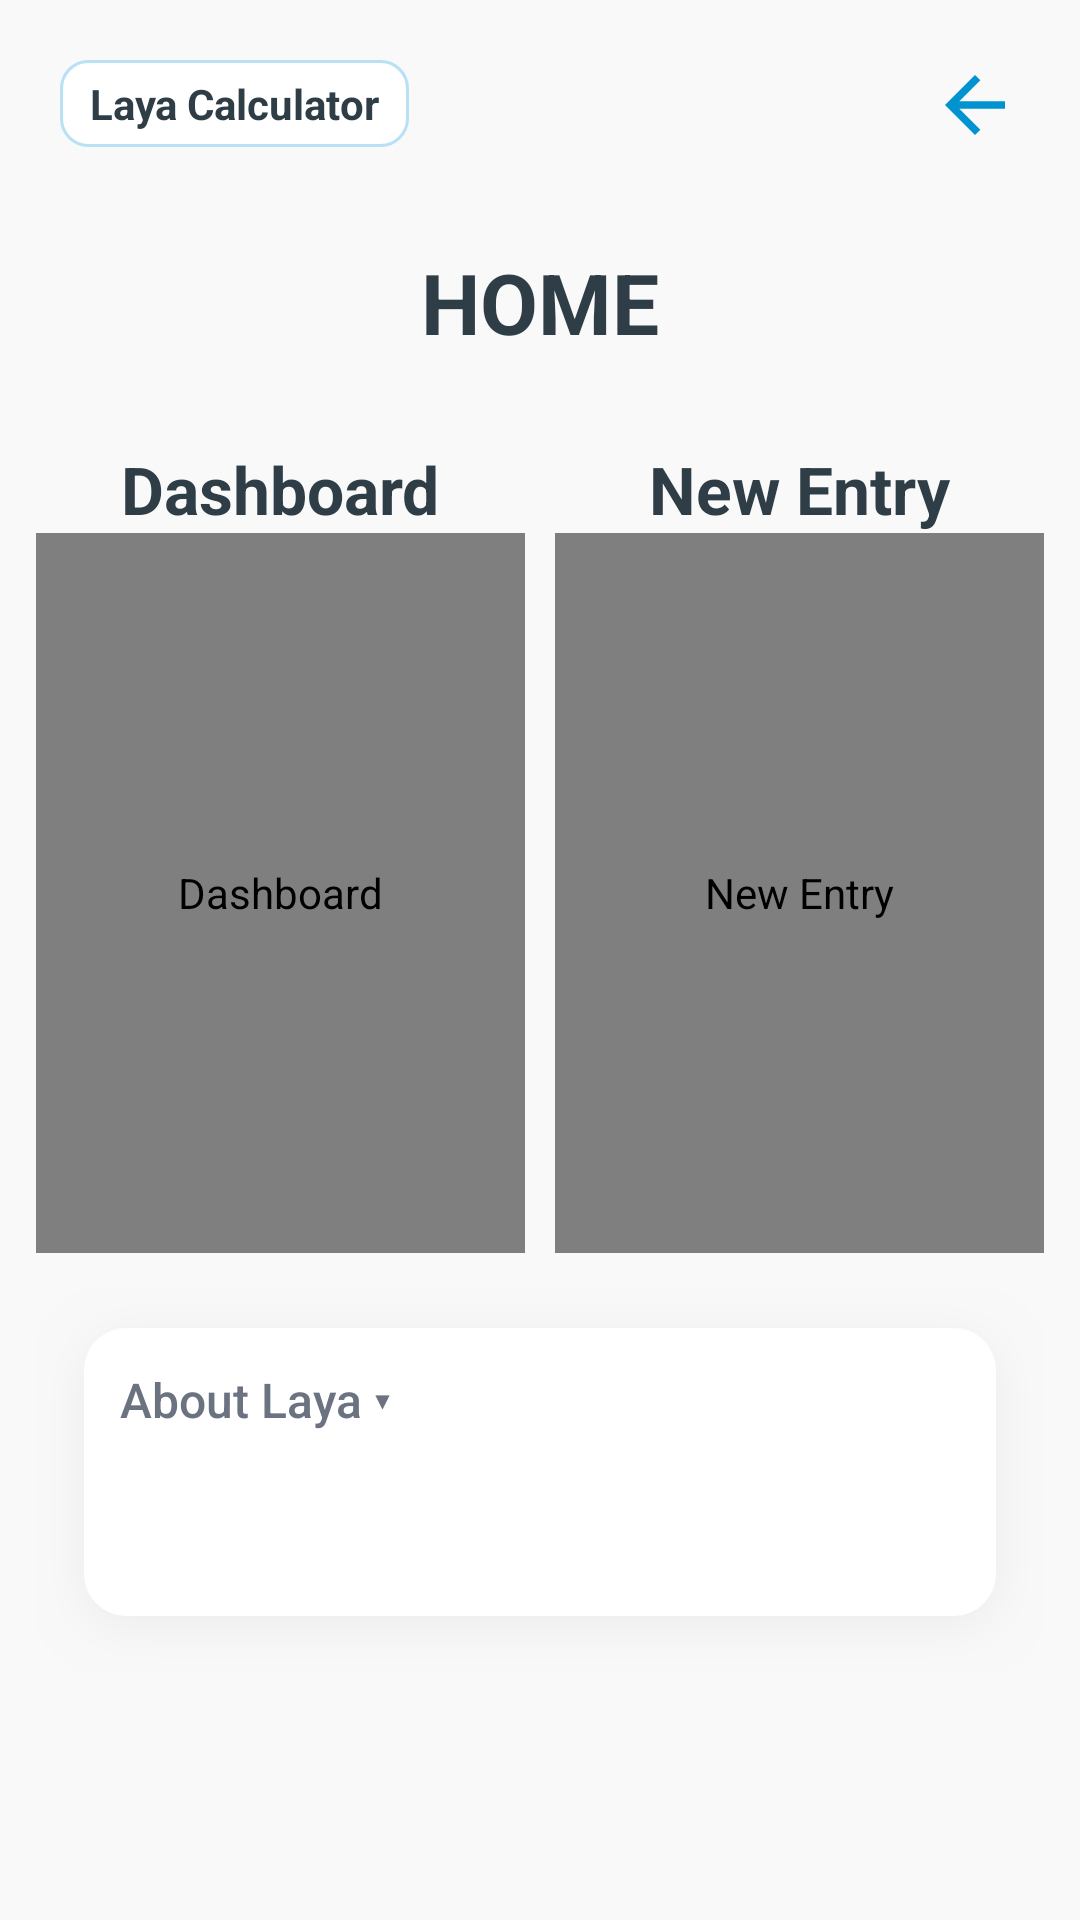

Screen size 1080px×1920px. Icon name, then its center in pixels as (x,y):
arrow back: (975,105)
